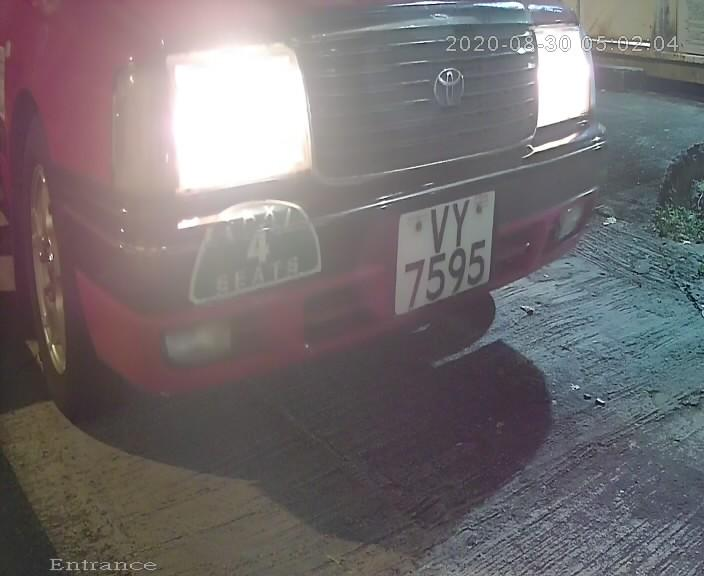License Plate: (387, 173, 497, 330)
